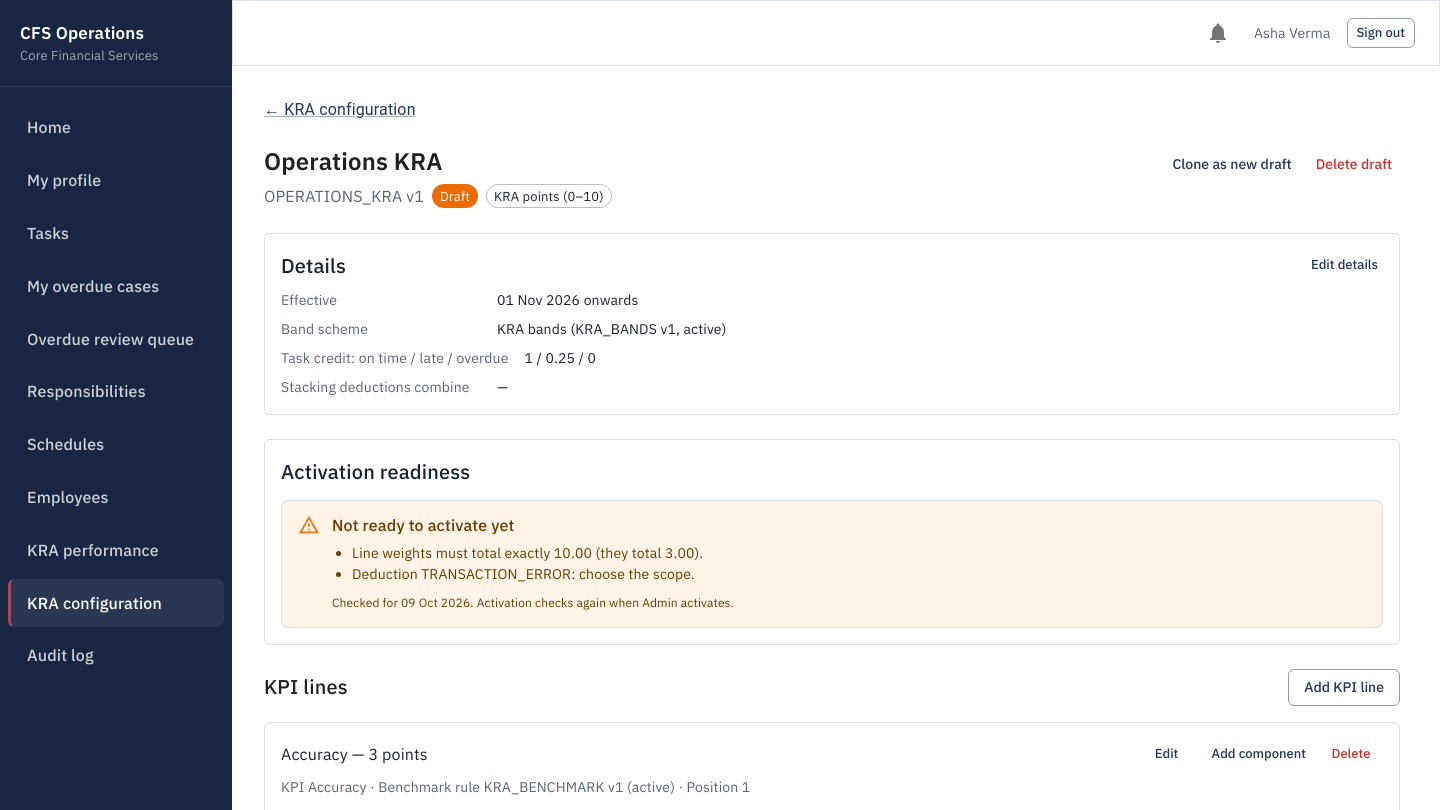
KRA plan editor (Phase 7.5A) › puts the backend's field errors on their fields
Click the button "Add KPI line" at (1344, 687), box x1=1288 y1=669 x2=1400 y2=706
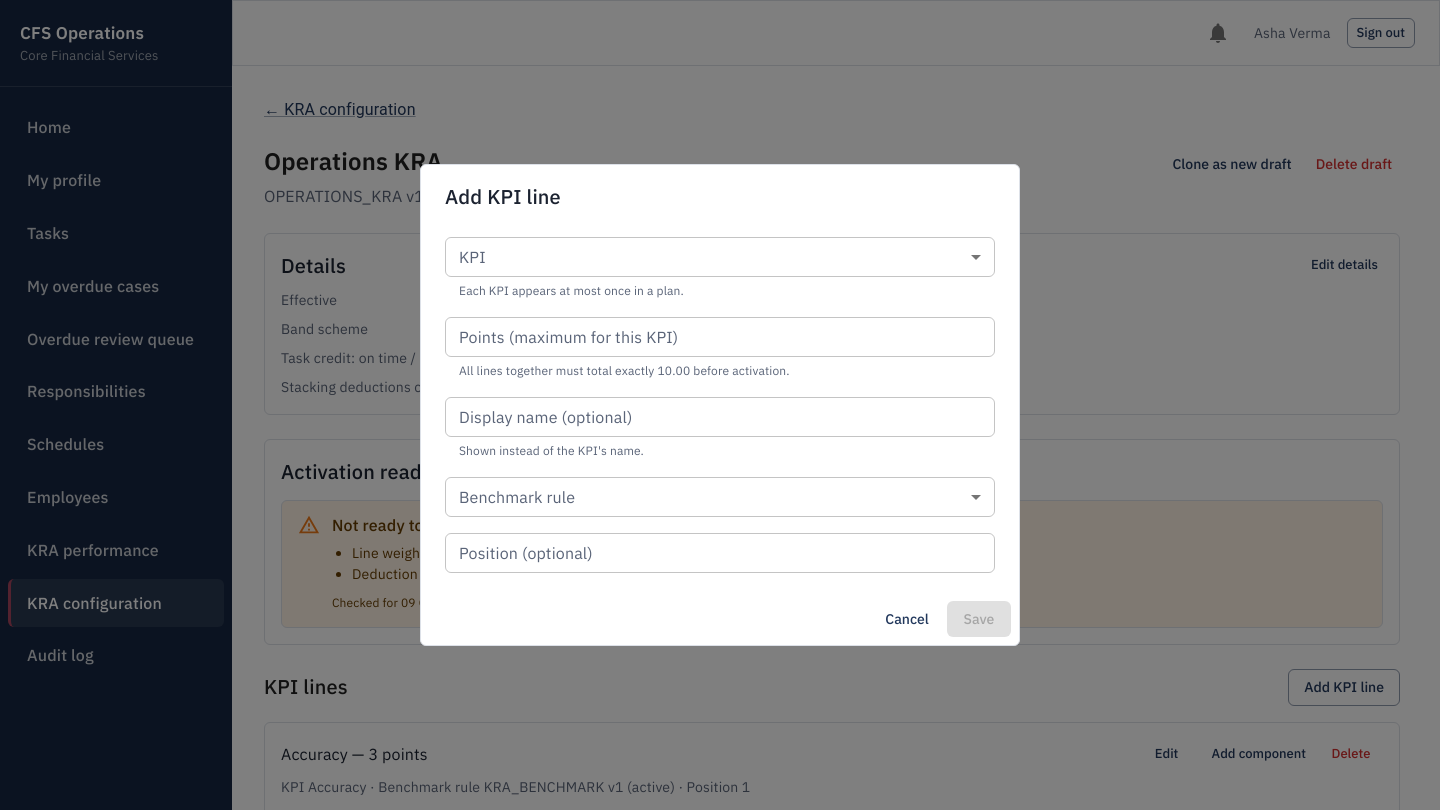
Click the 1st dropdown named "KPI" at (720, 257), box x1=445 y1=237 x2=995 y2=277
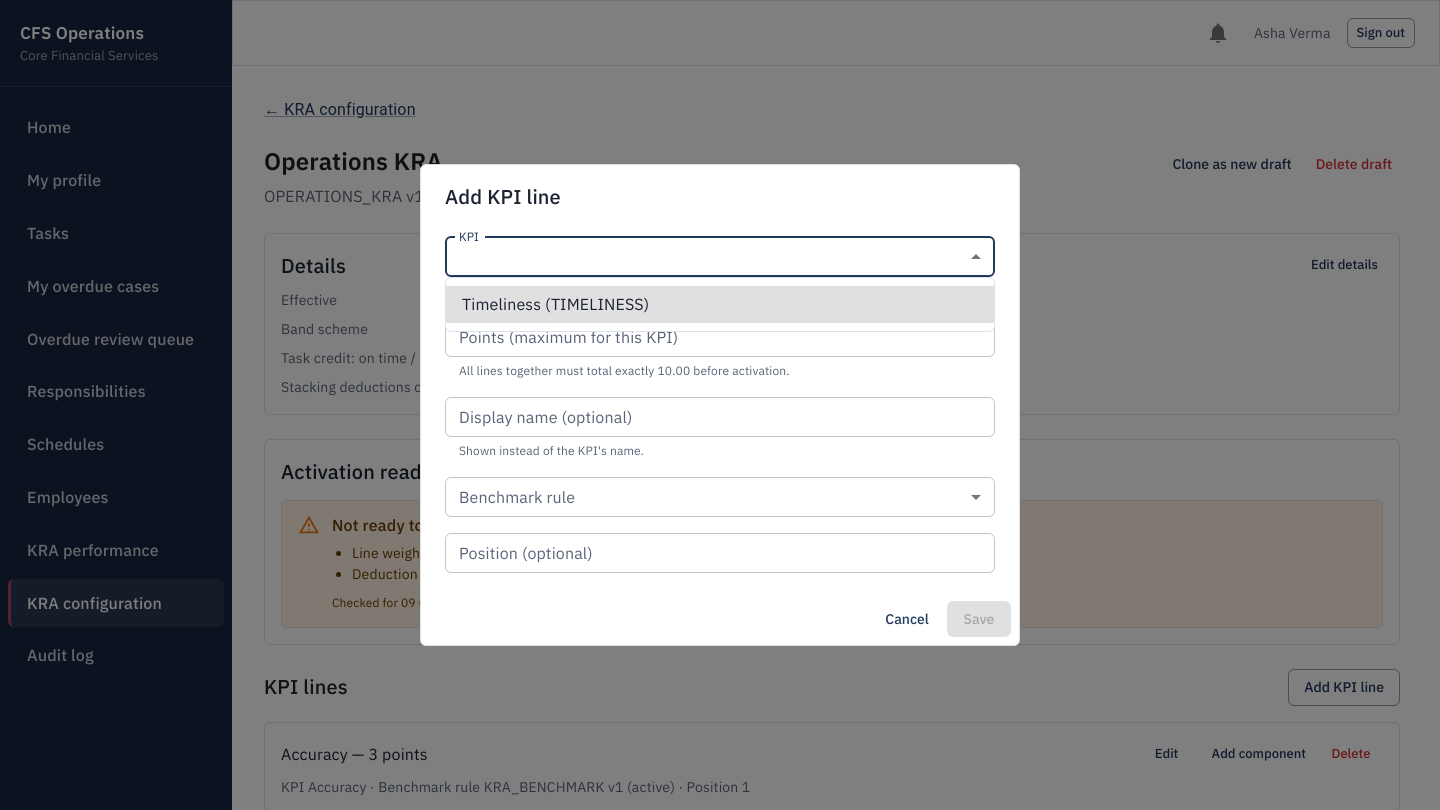
Click the option "Timeliness (TIMELINESS)" at (502, 304), box x1=446 y1=286 x2=994 y2=323
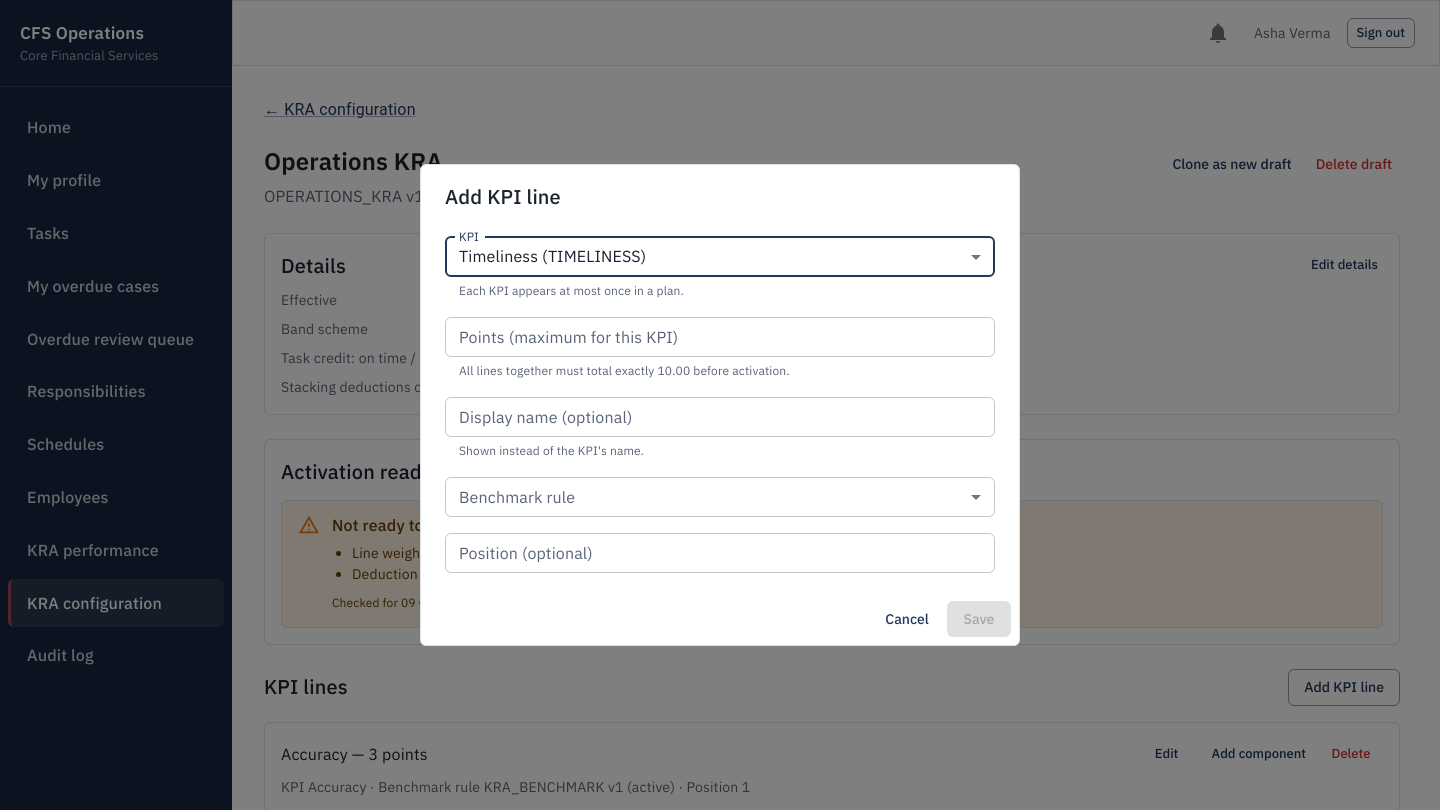
Type "0" into the field labelled "Points (maximum for this KPI)" at (720, 337), box x1=445 y1=317 x2=995 y2=357
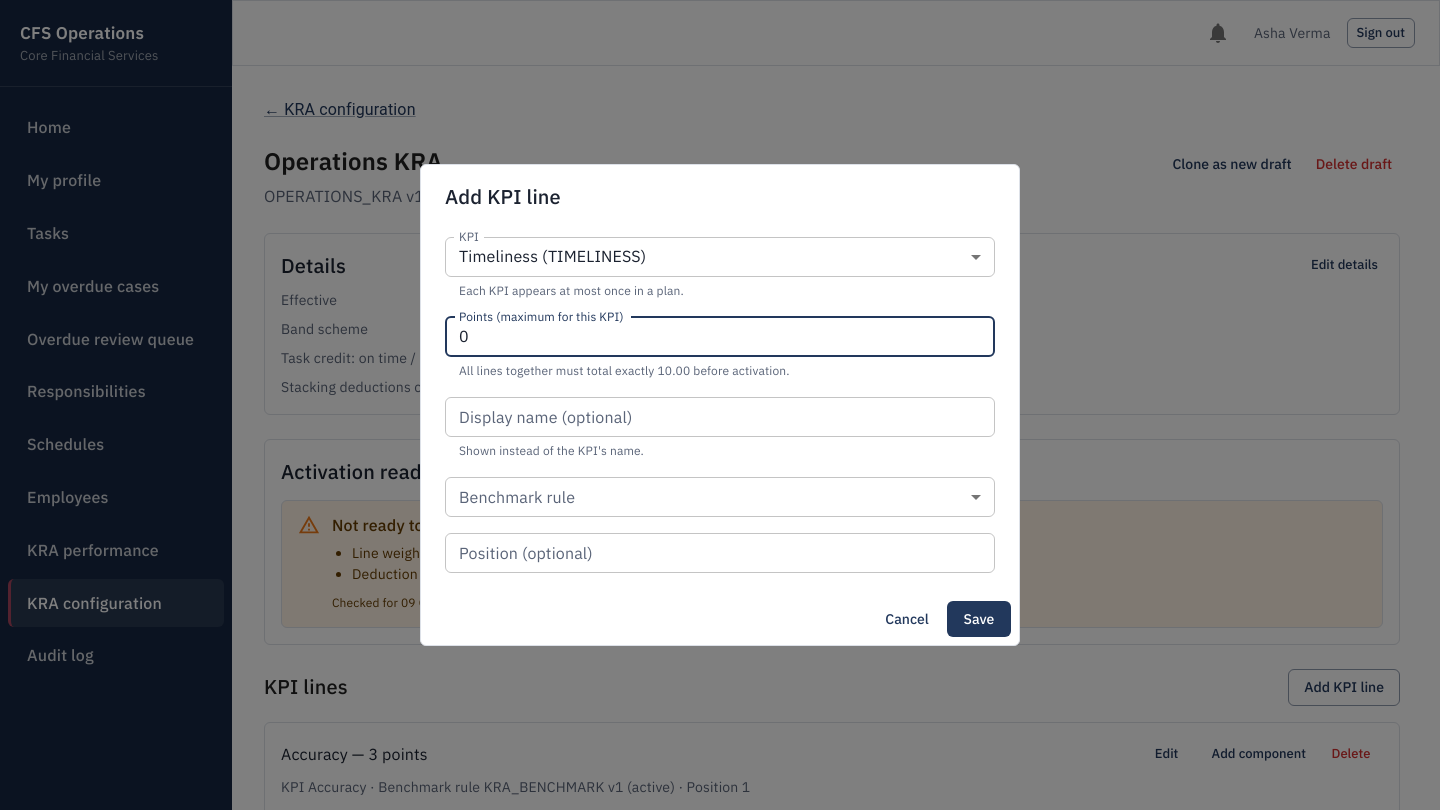
Click the button "Save" at (979, 619), box x1=947 y1=601 x2=1011 y2=637
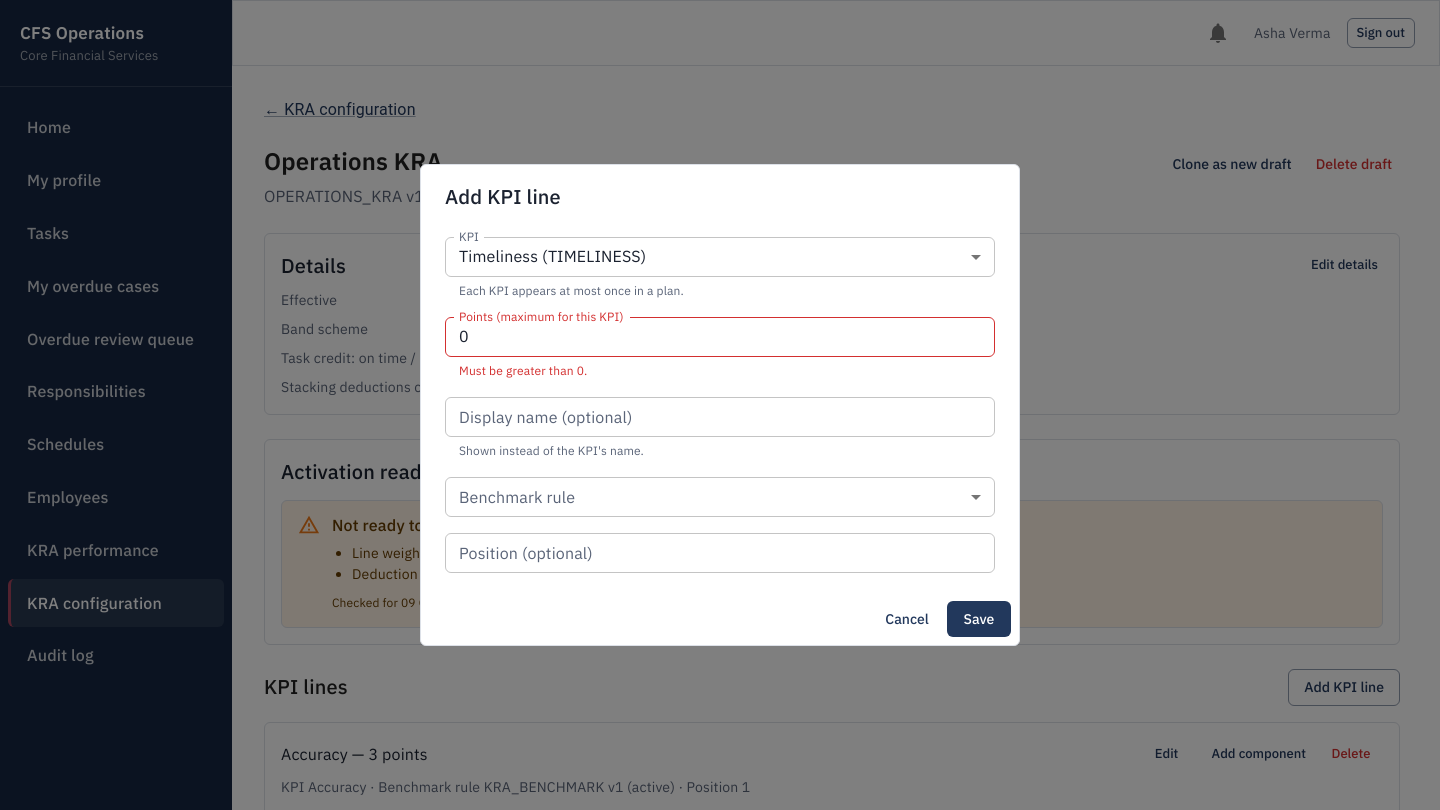
Expected: the text "Must be greater than 0." is shown, x1=459 y1=363 x2=587 y2=378
